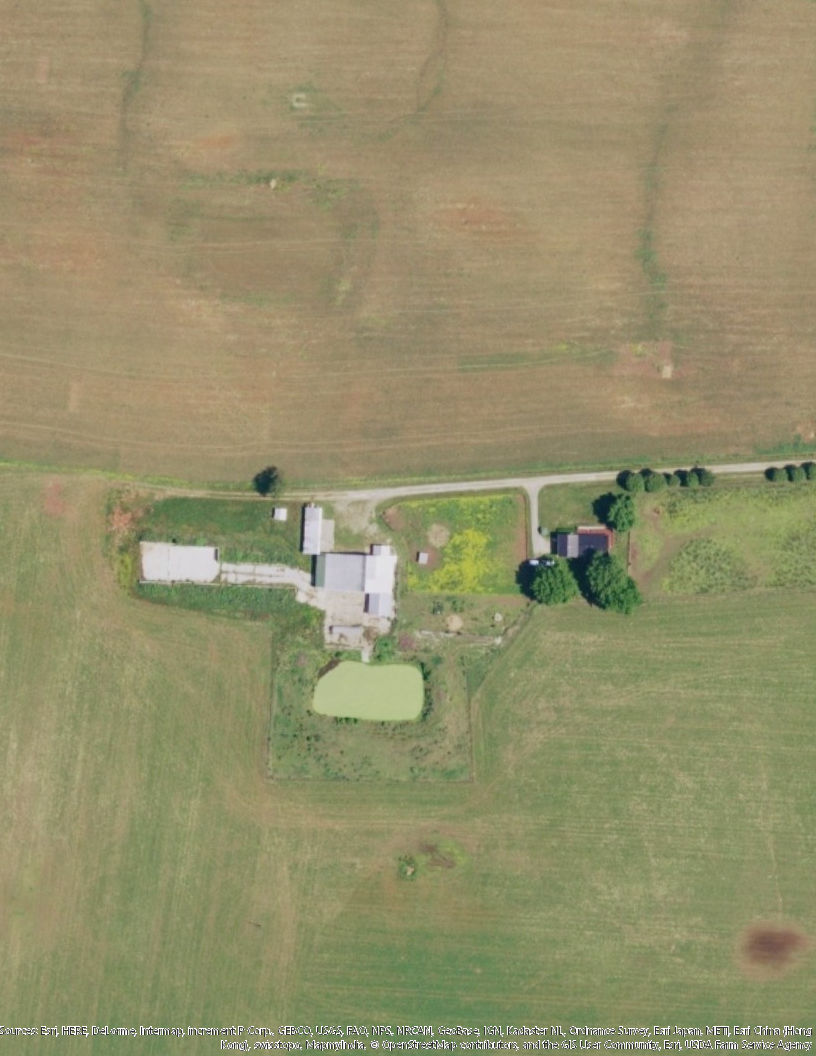cafo: (298, 499, 400, 623)
